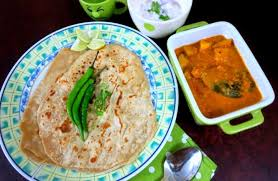curry: (170, 32, 263, 116)
roti: (24, 34, 158, 171)
